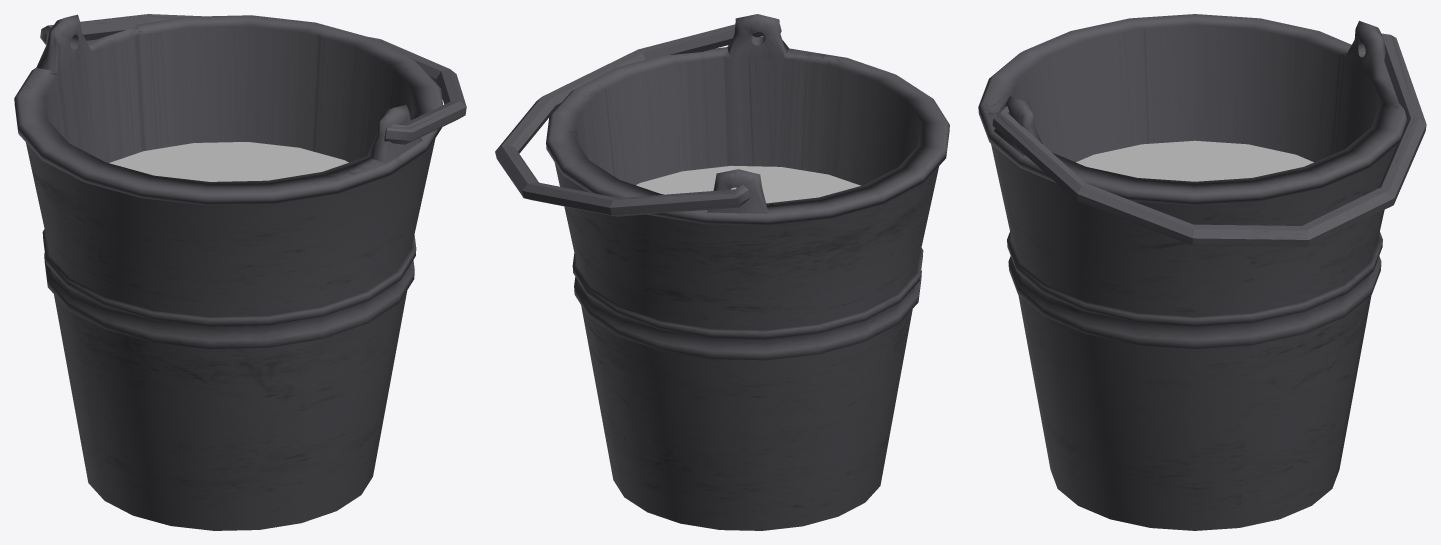
File: Bucket.fbx
3 views of the same model, side by side, from view 1: azimuth 30°, elevation 25°; view 2: azimuth 150°, elevation 25°; view 3: azimuth 270°, elevation 25° (orthographic). The views are drawn at different scales.
Parts seen in each view (by area): view 1: pTorus2; view 2: pTorus2; view 3: pTorus2.
Boxes of the visible parts, x1,y1,x2,y2 form: pTorus2: (14, 14, 466, 530); pTorus2: (495, 14, 949, 530); pTorus2: (978, 14, 1426, 530).
Size of the model in its own units: 2.26 by 2.13 by 2.12.
2 materials, 1 textured.
